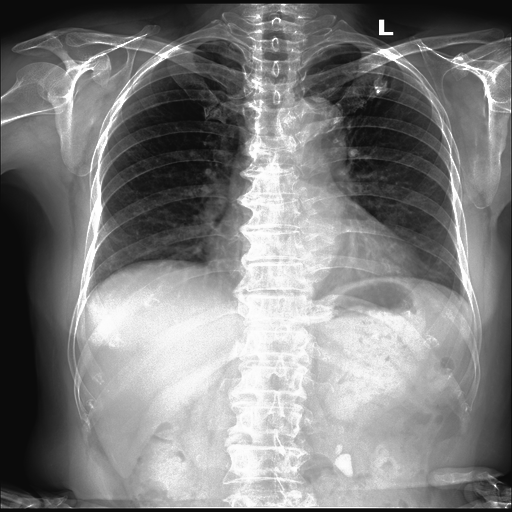Consolidation: (280, 96, 347, 147)
Lung Opacity: (370, 69, 391, 96)
Nodule/Mass: (203, 213, 421, 277)
Other lesion: (372, 67, 394, 98)
Pneumothorax: (370, 69, 391, 96)
Pulmonary fibrosis: (372, 67, 394, 98)
